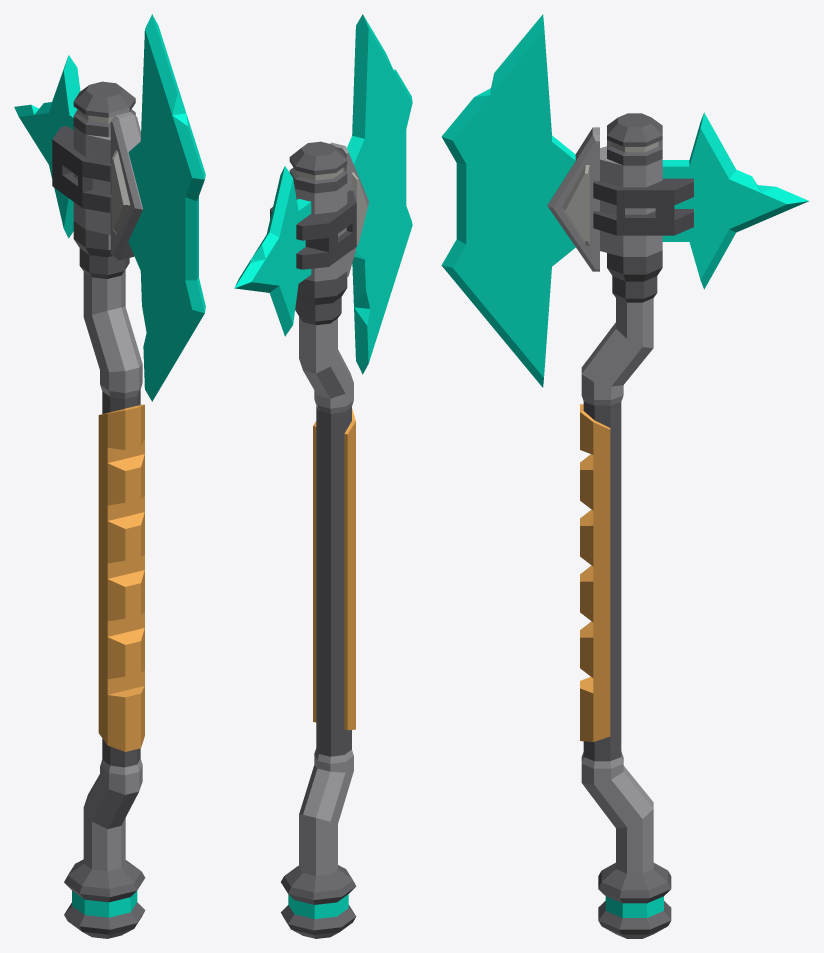
File: worlds_SM_Wep_BigAxe_03.gltf
3 views of the same model, side by side, from view 1: azimuth 30°, elevation 25°; view 2: azimuth 150°, elevation 25°; view 3: azimuth 270°, elevation 25° (orthographic). The views are drawn at different scales.
Visible parts, largest first — view 1: SM_Wep_BigAxe_03; view 2: SM_Wep_BigAxe_03; view 3: SM_Wep_BigAxe_03.
Part boxes in pixels (box(x1,y1,x2,y2)): SM_Wep_BigAxe_03: box(14, 14, 205, 938); SM_Wep_BigAxe_03: box(234, 14, 412, 938); SM_Wep_BigAxe_03: box(441, 14, 808, 938).
Size of the model in its own units: 0.081 by 1.12 by 0.4074.
Materials: 1 (1 with a texture image).
